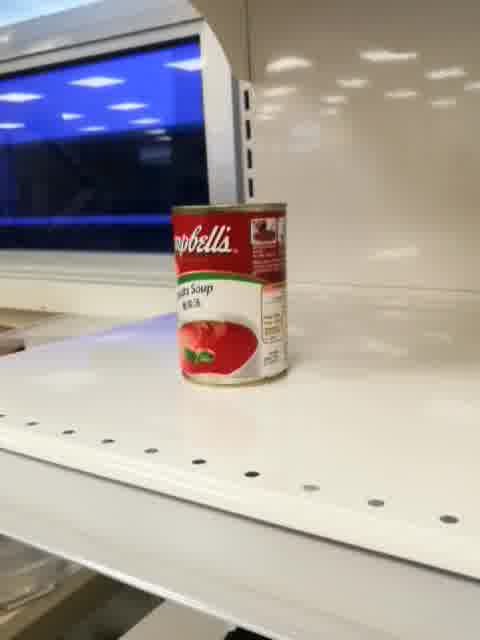tomatosoup: (168, 201, 291, 388)
